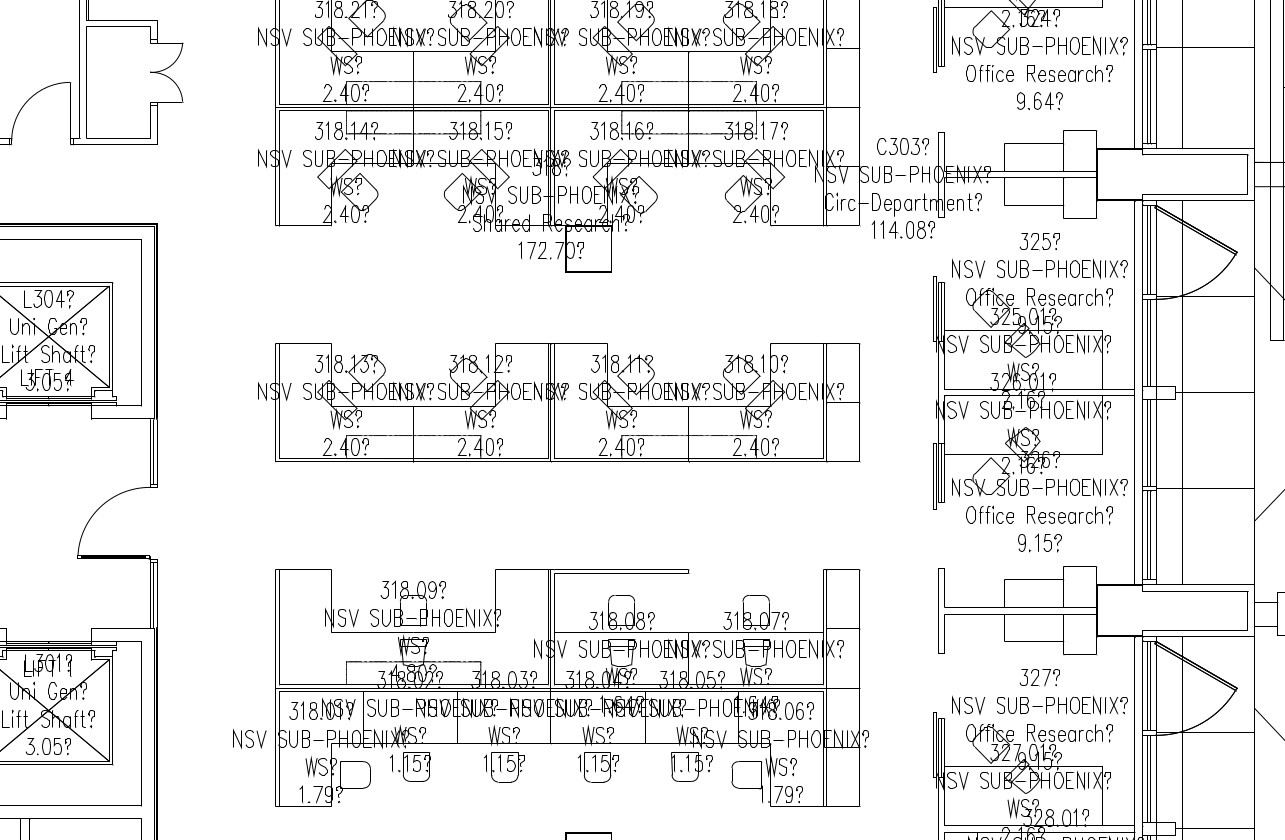door: (1152, 641, 1237, 738), (70, 478, 148, 564), (1, 64, 78, 150), (147, 37, 193, 108)
